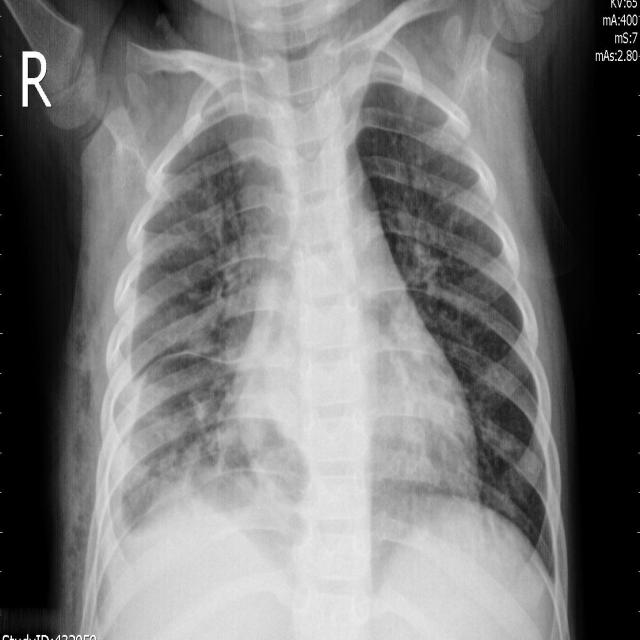low-pneumonia: (99, 365, 206, 535), (137, 127, 230, 266)
